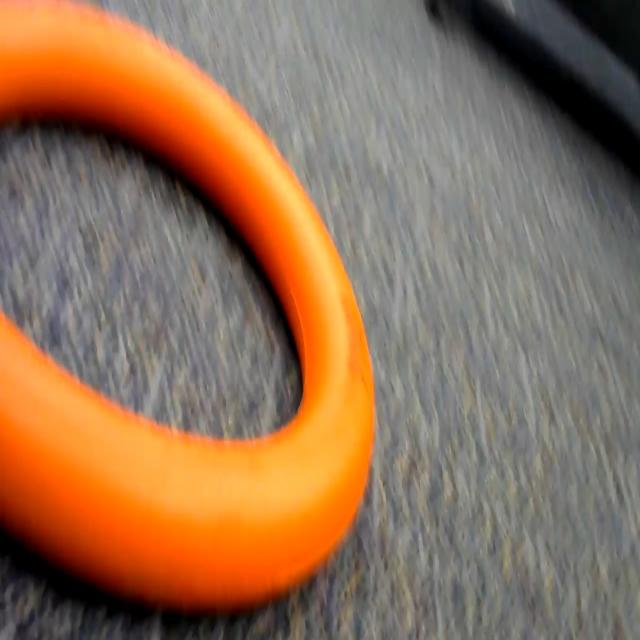note: (0, 0, 387, 622)
